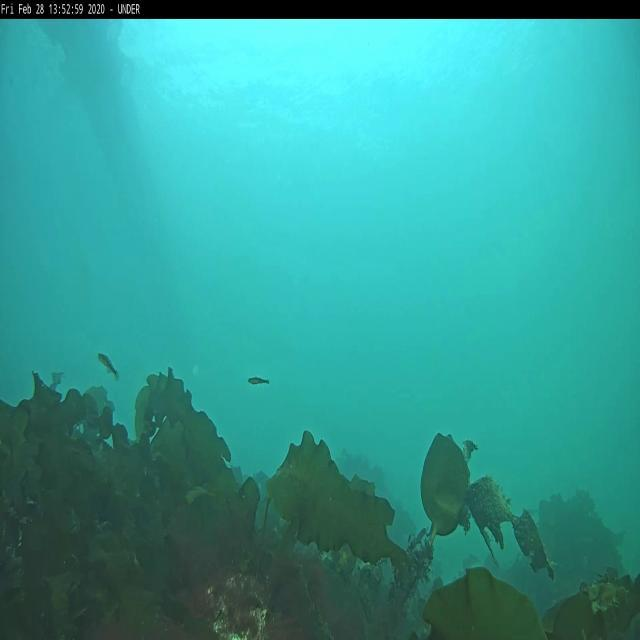fish: (98, 352, 119, 379), (247, 374, 270, 386)
